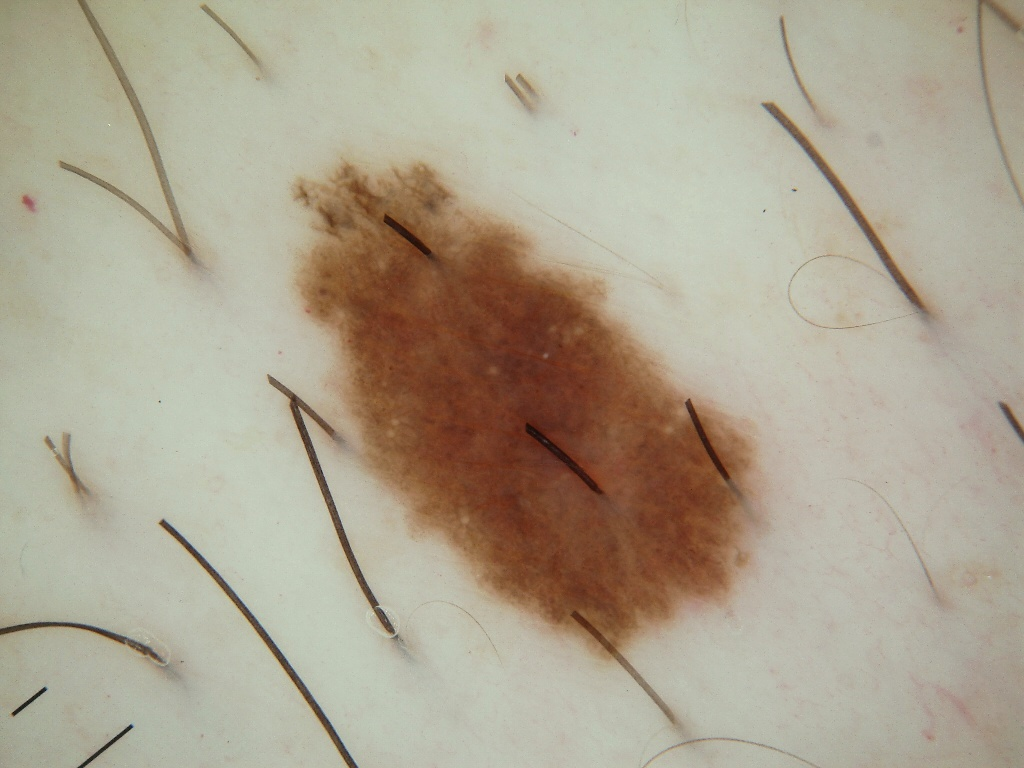Detected Lesion: (284, 146, 786, 674)
